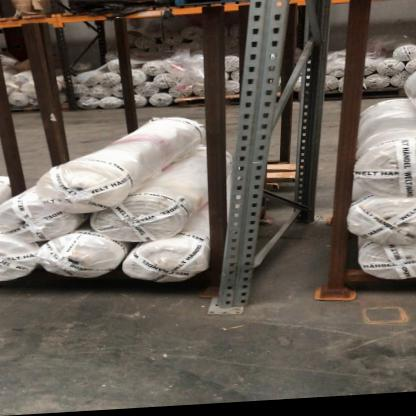vertical_damage: (206, 272, 267, 324)
